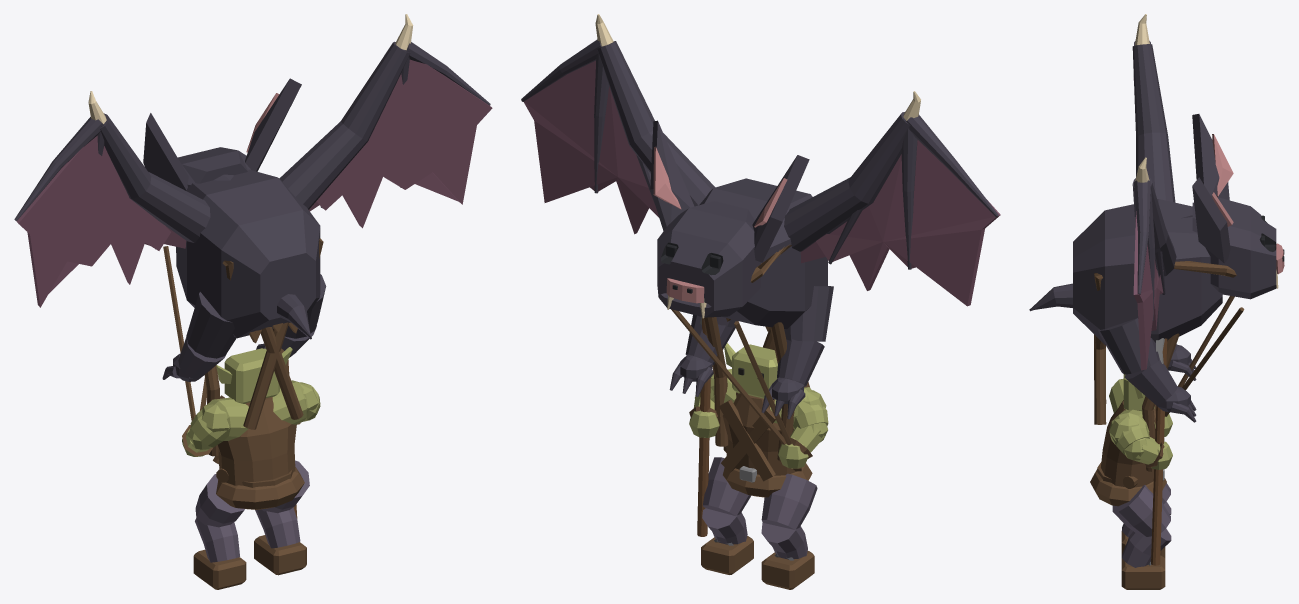
The model's file is host_05.glb.
The picture shows the model from 3 angles, left to right: view 1: azimuth 30°, elevation 25°; view 2: azimuth 150°, elevation 25°; view 3: azimuth 270°, elevation 25°; orthographic projection. The views are drawn at different scales.
Parts seen in each view (by area): view 1: V6 mount continuous anatomical thorax, V6 source mounted closed scalloped membrane R, V6 source mounted closed scalloped membrane L, V6 source mounted wing shoulder elbow wrist bone R, V6 source mounted wing shoulder elbow wrist bone L, V6 rider source seated thorax, V6 bat actual contacting hind thigh L, V6 rider source contacting seated pelvis, V6 bat source short faceted cranium, V6 bat source tall pointed anatomical ear, Observed face, V6 bat source tall pointed anatomical ear.001 (+14 smaller); view 2: V6 source mounted closed scalloped membrane L, V6 source mounted closed scalloped membrane R, V6 bat source short faceted cranium, V6 mount continuous anatomical thorax, V6 source mounted wing shoulder elbow wrist bone L, V6 source mounted wing shoulder elbow wrist bone R, V6 rider actual connected seated thigh L, V6 rider source seated thorax, V6 bat source tall pointed anatomical ear, V6 bat source tall pointed anatomical ear.001, Observed face, V6 bat actual contacting hind thigh L (+23 smaller); view 3: V6 mount continuous anatomical thorax, V6 bat source short faceted cranium, V6 source mounted wing shoulder elbow wrist bone L, V6 source mounted closed scalloped membrane R, V6 bat source tall pointed anatomical ear.001, V6 bat actual contacting hind thigh R, V6 rider source seated thorax, V6 bat source tall pointed anatomical ear, V6 rider actual connected seated thigh R, V6 source continuous held spear shaft, V6 bat actual hind shin and ankle R, V6 source actual membrane finger R (+18 smaller).
Boxes of the visible parts, x1,y1,x2,y2 form: V6 mount continuous anatomical thorax: [176, 169, 320, 338]; V6 source mounted closed scalloped membrane R: [309, 59, 492, 228]; V6 source mounted closed scalloped membrane L: [16, 135, 186, 307]; V6 source mounted wing shoulder elbow wrist bone R: [279, 41, 410, 209]; V6 source mounted wing shoulder elbow wrist bone L: [100, 113, 210, 242]; V6 rider source seated thorax: [217, 397, 296, 485]; V6 bat actual contacting hind thigh L: [186, 292, 236, 358]; V6 rider source contacting seated pelvis: [216, 467, 304, 509]; V6 bat source short faceted cranium: [178, 147, 250, 187]; V6 bat source tall pointed anatomical ear: [143, 113, 188, 190]; Observed face: [224, 348, 279, 403]; V6 bat source tall pointed anatomical ear.001: [245, 78, 301, 171]; V6 source mounted closed scalloped membrane L: [800, 140, 1000, 306]; V6 source mounted closed scalloped membrane R: [523, 60, 659, 234]; V6 bat source short faceted cranium: [657, 201, 760, 317]; V6 mount continuous anatomical thorax: [699, 178, 827, 329]; V6 source mounted wing shoulder elbow wrist bone L: [784, 112, 909, 251]; V6 source mounted wing shoulder elbow wrist bone R: [597, 41, 715, 206]; V6 rider actual connected seated thigh L: [761, 473, 817, 529]; V6 rider source seated thorax: [722, 392, 796, 475]; V6 bat source tall pointed anatomical ear: [752, 155, 809, 262]; V6 bat source tall pointed anatomical ear.001: [650, 120, 694, 230]; Observed face: [732, 344, 777, 400]; V6 bat actual contacting hind thigh L: [784, 286, 833, 341]; V6 mount continuous anatomical thorax: [1073, 199, 1222, 345]; V6 bat source short faceted cranium: [1192, 197, 1276, 299]; V6 source mounted wing shoulder elbow wrist bone L: [1132, 44, 1175, 202]; V6 source mounted closed scalloped membrane R: [1133, 211, 1163, 370]; V6 bat source tall pointed anatomical ear.001: [1192, 177, 1230, 263]; V6 bat actual contacting hind thigh R: [1098, 318, 1159, 374]; V6 rider source seated thorax: [1101, 400, 1156, 487]; V6 bat source tall pointed anatomical ear: [1192, 114, 1229, 200]; V6 rider actual connected seated thigh R: [1112, 485, 1170, 536]; V6 source continuous held spear shaft: [1151, 338, 1167, 565]; V6 bat actual hind shin and ankle R: [1124, 359, 1177, 404]; V6 source actual membrane finger R: [1134, 180, 1150, 294].
Size of the model in its own units: 2.39 by 2.49 by 1.19.
